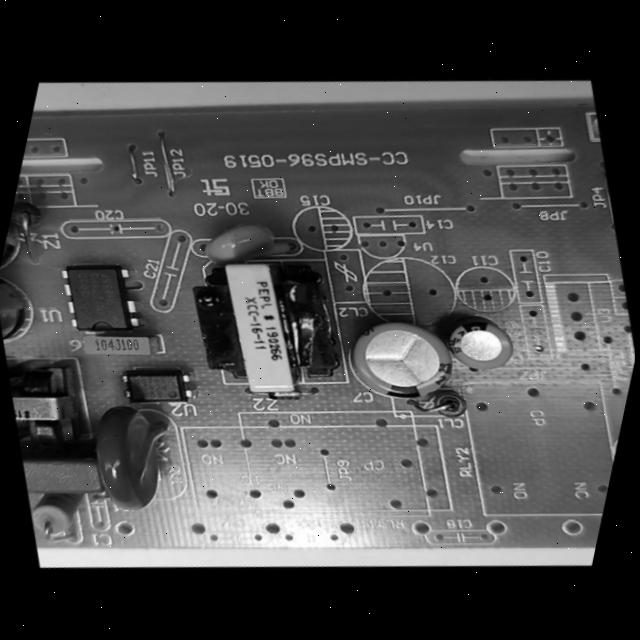Cap1: (331, 299, 475, 417)
Cap2: (437, 309, 529, 384)
Cap3: (0, 269, 54, 363)
Cap4: (0, 185, 50, 281)
MOSFET: (47, 254, 153, 345)
Mov: (64, 393, 193, 527)
Resistor: (18, 482, 101, 555)
Transformer: (164, 238, 362, 418), (0, 362, 86, 457)
